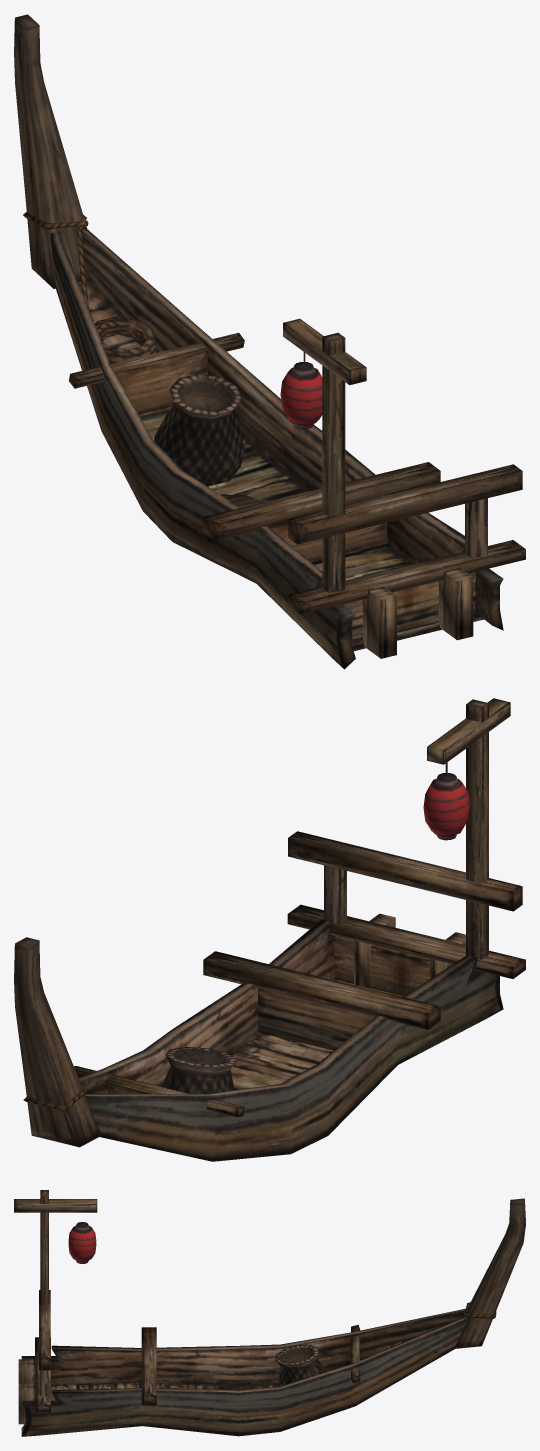
The model's file is PRP_BoatA.FBX.
The picture shows the model from 3 angles, top to bottom: view 1: azimuth 30°, elevation 25°; view 2: azimuth 150°, elevation 25°; view 3: azimuth 270°, elevation 25°; orthographic projection. The views are drawn at different scales.
Visible parts, largest first — view 1: PRP_BoatA; view 2: PRP_BoatA; view 3: PRP_BoatA.
Part boxes in pixels (<box>): PRP_BoatA: <box>14,14,525,669</box>; PRP_BoatA: <box>14,698,525,1161</box>; PRP_BoatA: <box>14,1190,525,1436</box>.
Size of the model in its own units: 288 by 415 by 907.
